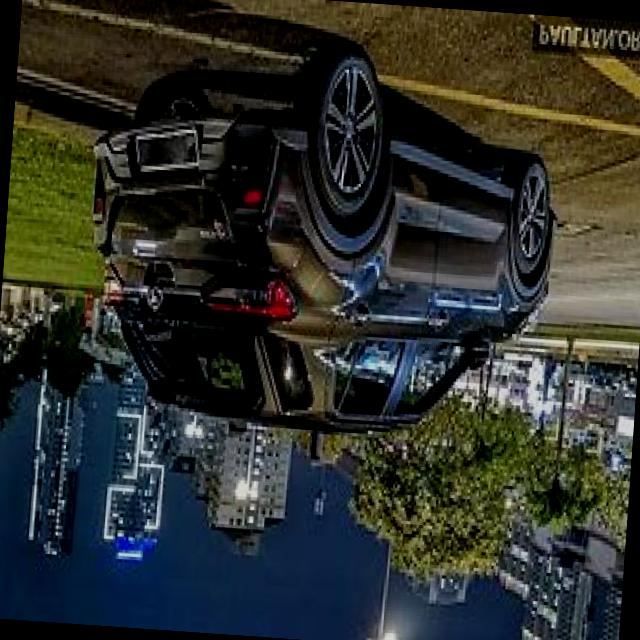PeroduaAtiva: (71, 26, 568, 456)
